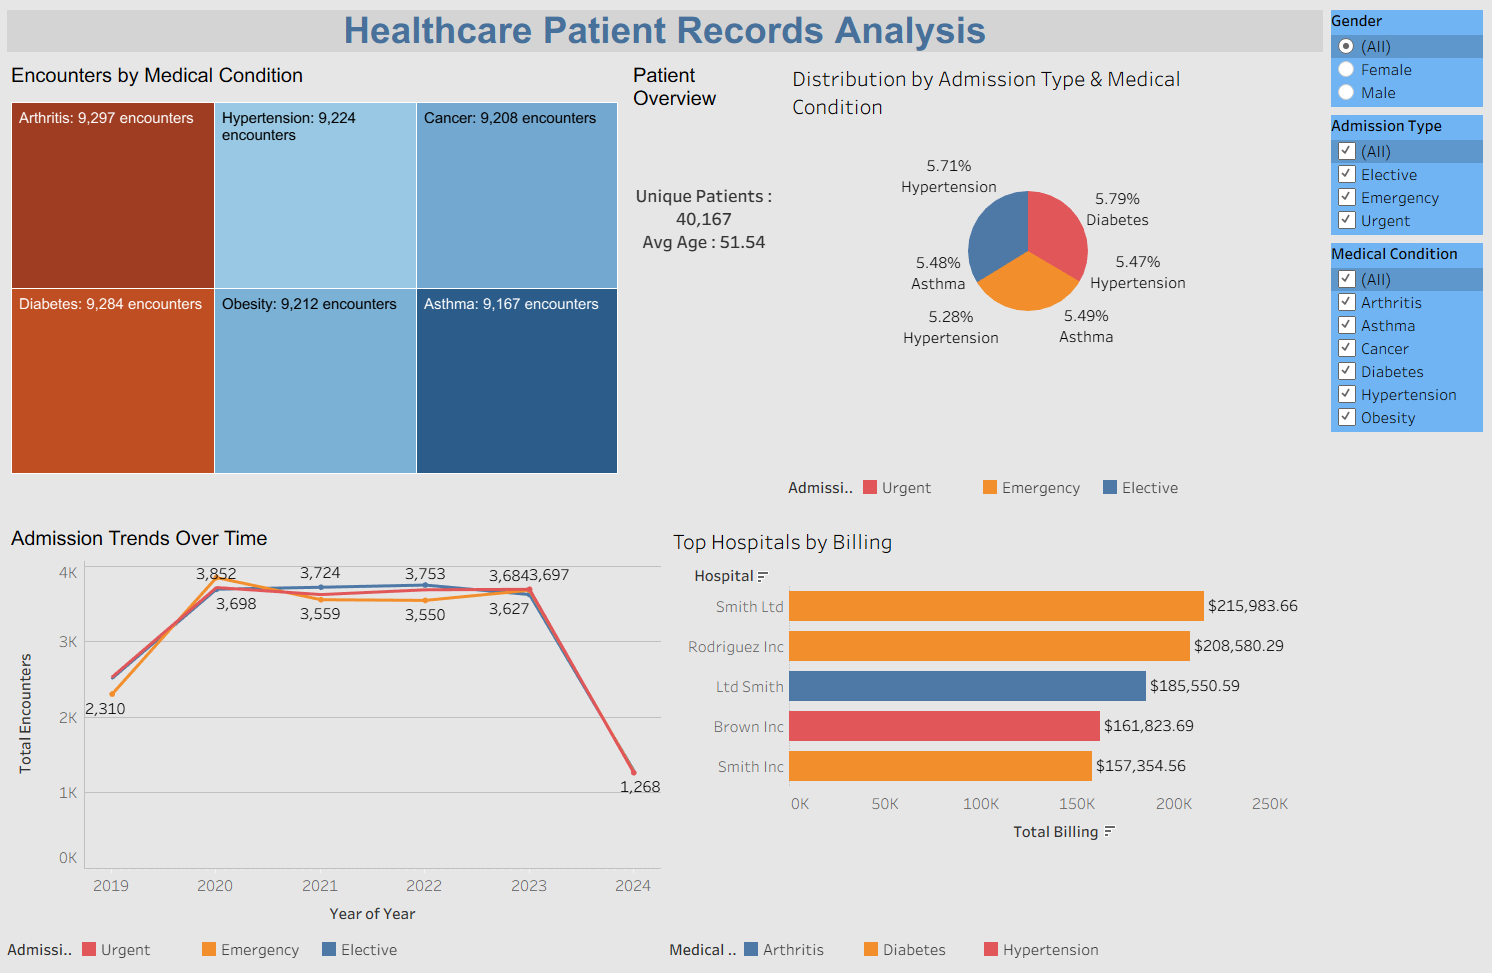

The dashboard page shown, as its layout file describes it:
{"tool":"tableau","page":{"name":"Dashboard 1","canvas":[1000,1000],"units":"permille","ordinal":0},"visuals":[{"type":"title","box":[5.3,9.8,882.7,61]},{"type":"filter","title":"Line chart","param":"[federated.06jkjin07ps6i610dw3mp0pje1j1].[none:Gender:nk]","box":[888,9.8,106.7,128.1]},{"type":"worksheet","title":"Treemap","mark":"Automatic","box":[5.3,70.7,414.7,459.7]},{"type":"worksheet","title":"KPI Card","mark":"Text","box":[420,70.7,106,459.7]},{"type":"worksheet","title":"Pie Chart","mark":"Pie","box":[526,70.7,362,414]},{"type":"filter","title":"Line chart","param":"[federated.1xdfog40y3rj0q154j4id0phkzal].[none:Admission_Type:nk]","box":[888,137.8,106.7,156.1]},{"type":"filter","title":"Bar Chart","param":"[federated.1xdfog40y3rj0q154j4id0phkzal].[none:Medical_Condition:nk]","box":[888,293.9,106.7,240.2]},{"type":"legend","title":"Pie Chart","param":"[federated.1v9iu6k0n4gwi512gk5gi0wq4o9t].[none:Admission_Type:nk]","box":[526,484.7,362,45.7]},{"type":"worksheet","title":"Line chart","mark":"Automatic","rows":["Total_Encounters"],"cols":["Year"],"box":[5.3,530.5,441.3,412.3]},{"type":"worksheet","title":"Bar Chart","mark":"Bar","rows":["Hospital"],"cols":["Total_Billing"],"box":[446.7,530.5,441.3,412.3]},{"type":"legend","title":"Line chart","param":"[federated.06jkjin07ps6i610dw3mp0pje1j1].[none:Admission_Type:nk]","box":[5.3,942.8,441.3,47.5]},{"type":"legend","title":"Bar Chart","param":"[federated.12lzu1u1jyx8w215z0fwa1gshfv0].[none:Medical_condition:nk]","box":[446.7,942.8,441.3,47.5]}]}

Visuals, with their boxes on the dashboard's canvas, which has no fixed pixel size, in thousandths of its width and height (x1, y1, x2, y2). These are canvas units, not pixel positions in the 1492x973 screenshot, which may show the page scaled, cropped or inside an application window:
title: {"x1": 5, "y1": 10, "x2": 888, "y2": 71}
"Line chart" filter: {"x1": 888, "y1": 10, "x2": 995, "y2": 138}
"Treemap" worksheet: {"x1": 5, "y1": 71, "x2": 420, "y2": 530}
"KPI Card" worksheet (Text marks): {"x1": 420, "y1": 71, "x2": 526, "y2": 530}
"Pie Chart" worksheet (Pie marks): {"x1": 526, "y1": 71, "x2": 888, "y2": 485}
"Line chart" filter: {"x1": 888, "y1": 138, "x2": 995, "y2": 294}
"Bar Chart" filter: {"x1": 888, "y1": 294, "x2": 995, "y2": 534}
"Pie Chart" legend: {"x1": 526, "y1": 485, "x2": 888, "y2": 530}
"Line chart" worksheet: {"x1": 5, "y1": 530, "x2": 447, "y2": 943}
"Bar Chart" worksheet (Bar marks): {"x1": 447, "y1": 530, "x2": 888, "y2": 943}
"Line chart" legend: {"x1": 5, "y1": 943, "x2": 447, "y2": 990}
"Bar Chart" legend: {"x1": 447, "y1": 943, "x2": 888, "y2": 990}
